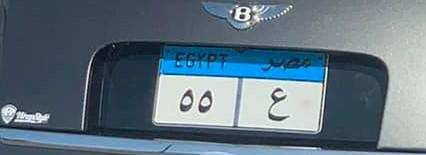5: (196, 84, 221, 117), (169, 86, 197, 113)
ع: (252, 82, 302, 121)
